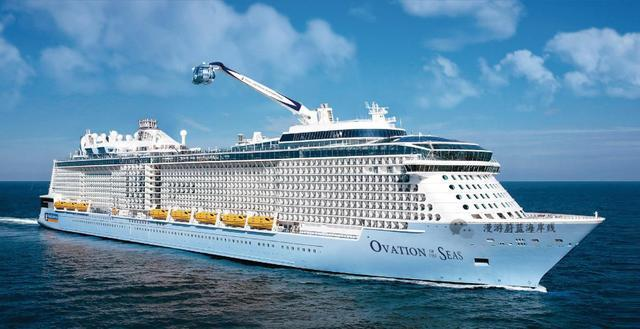Ship: (33, 107, 620, 291)
